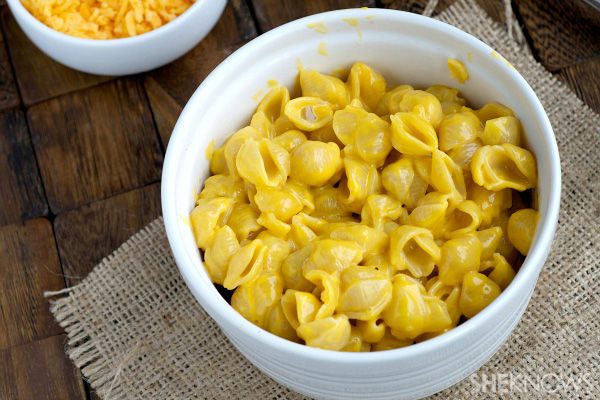macncheese: (196, 58, 537, 358)
